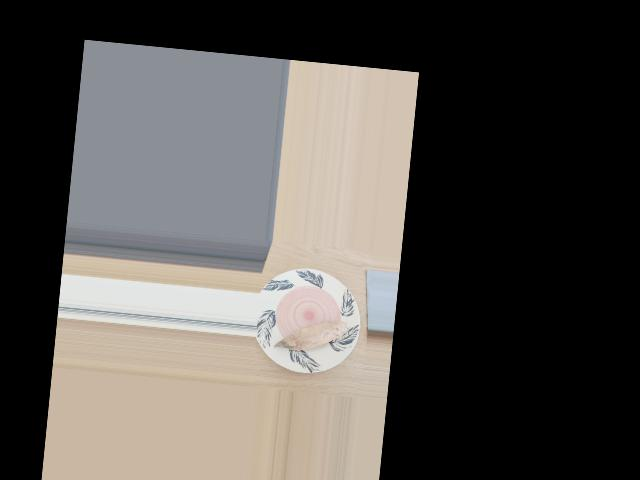sweet_potato: (281, 313, 344, 355)
